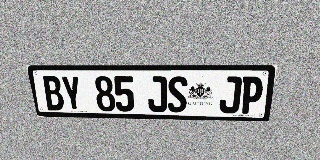5: (113, 76, 135, 112)
8: (94, 76, 116, 111)
B: (41, 76, 65, 110)
J: (219, 76, 242, 113), (147, 76, 167, 112)
P: (239, 76, 264, 114)
S: (168, 76, 188, 113)
Y: (60, 76, 84, 111)
